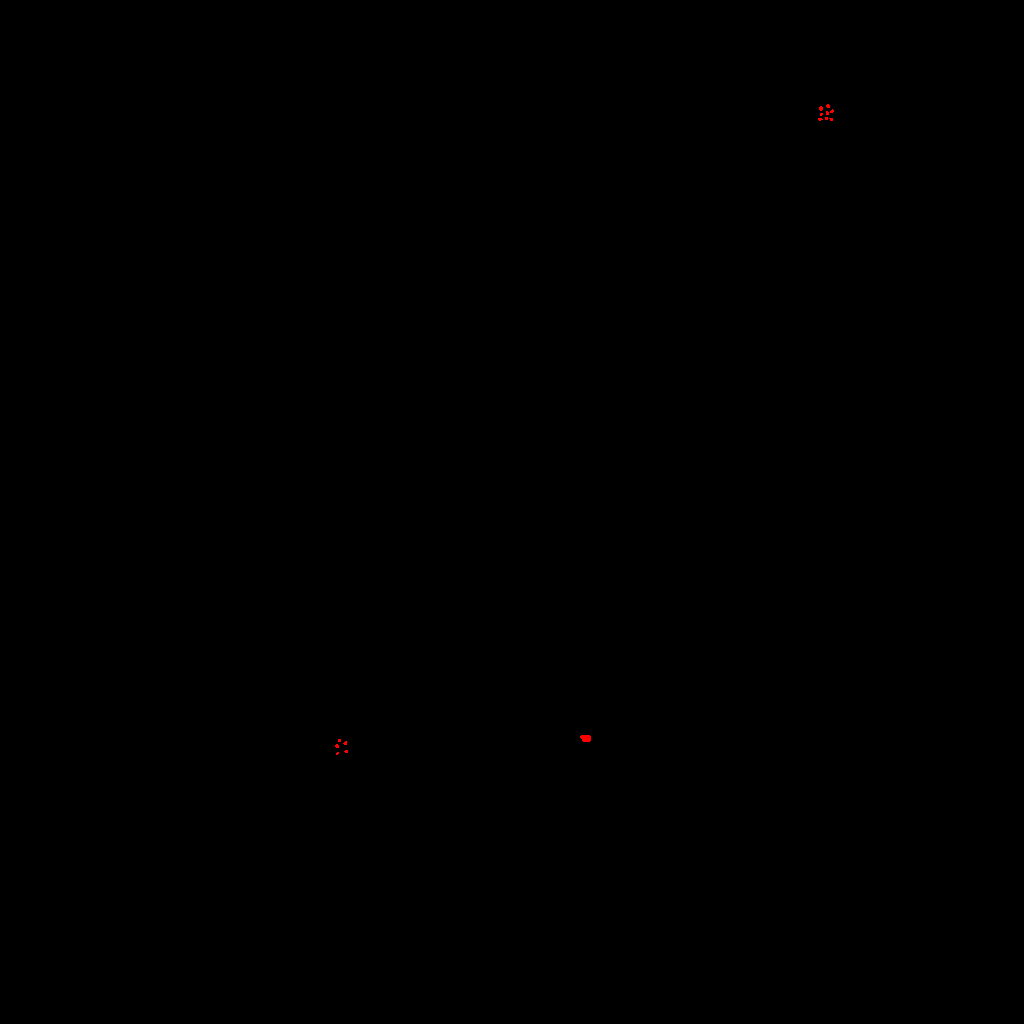Target: (580, 735, 591, 742), (819, 106, 823, 111), (826, 104, 830, 108), (830, 109, 834, 113), (343, 741, 347, 745), (335, 744, 339, 748), (818, 118, 823, 121), (826, 111, 829, 115), (829, 118, 833, 121), (344, 750, 348, 753), (820, 113, 823, 116), (825, 117, 828, 120), (338, 739, 341, 742), (336, 752, 339, 755)
